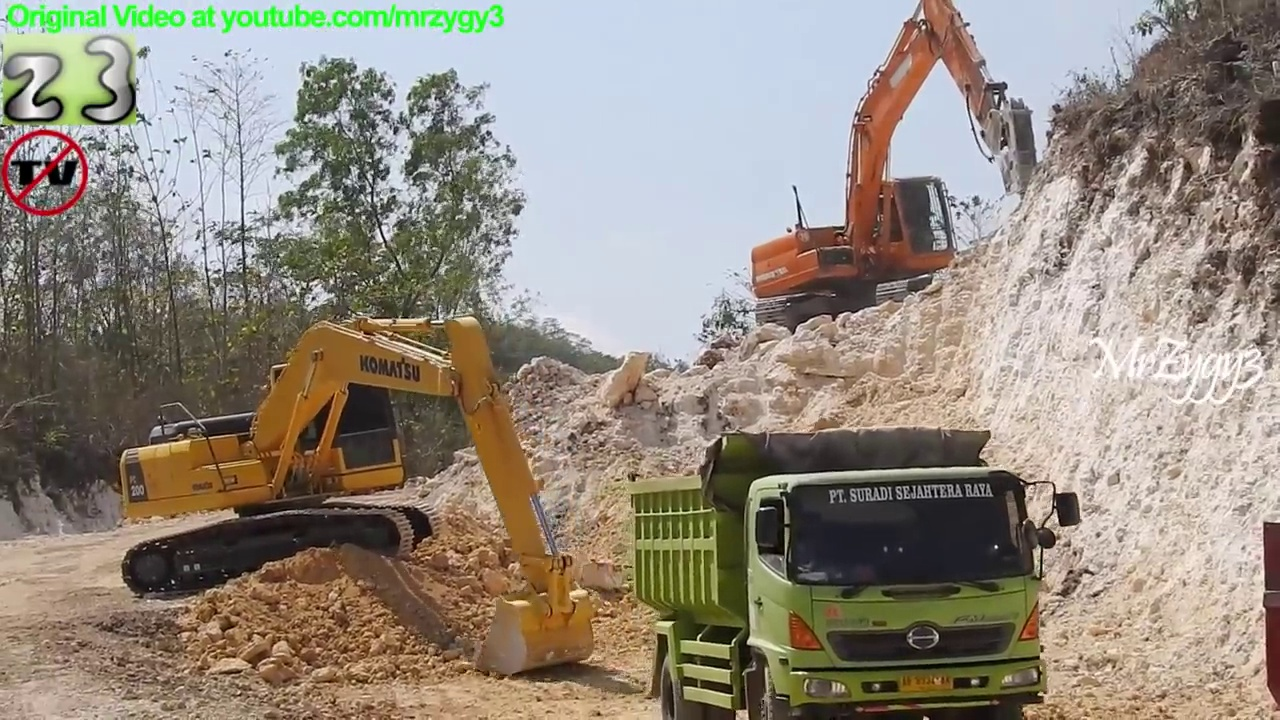excavator: (112, 305, 599, 683), (743, 1, 1050, 340)
truck: (623, 423, 1090, 720), (1257, 512, 1280, 713)
